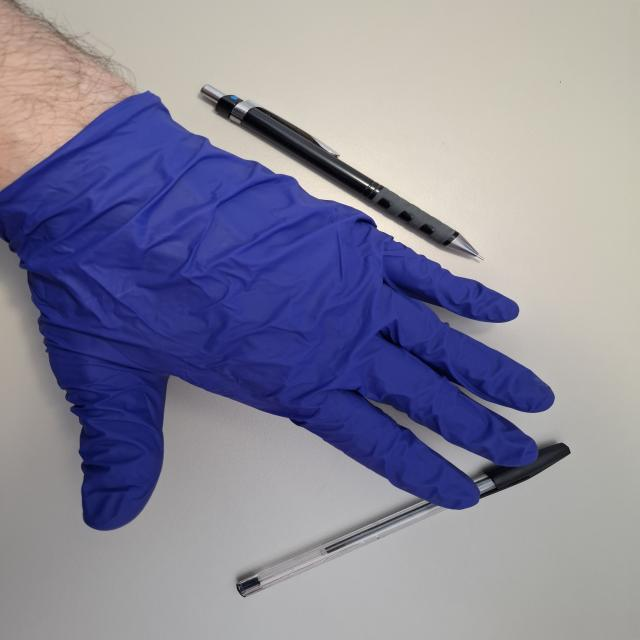glove_on: (1, 90, 562, 536)
